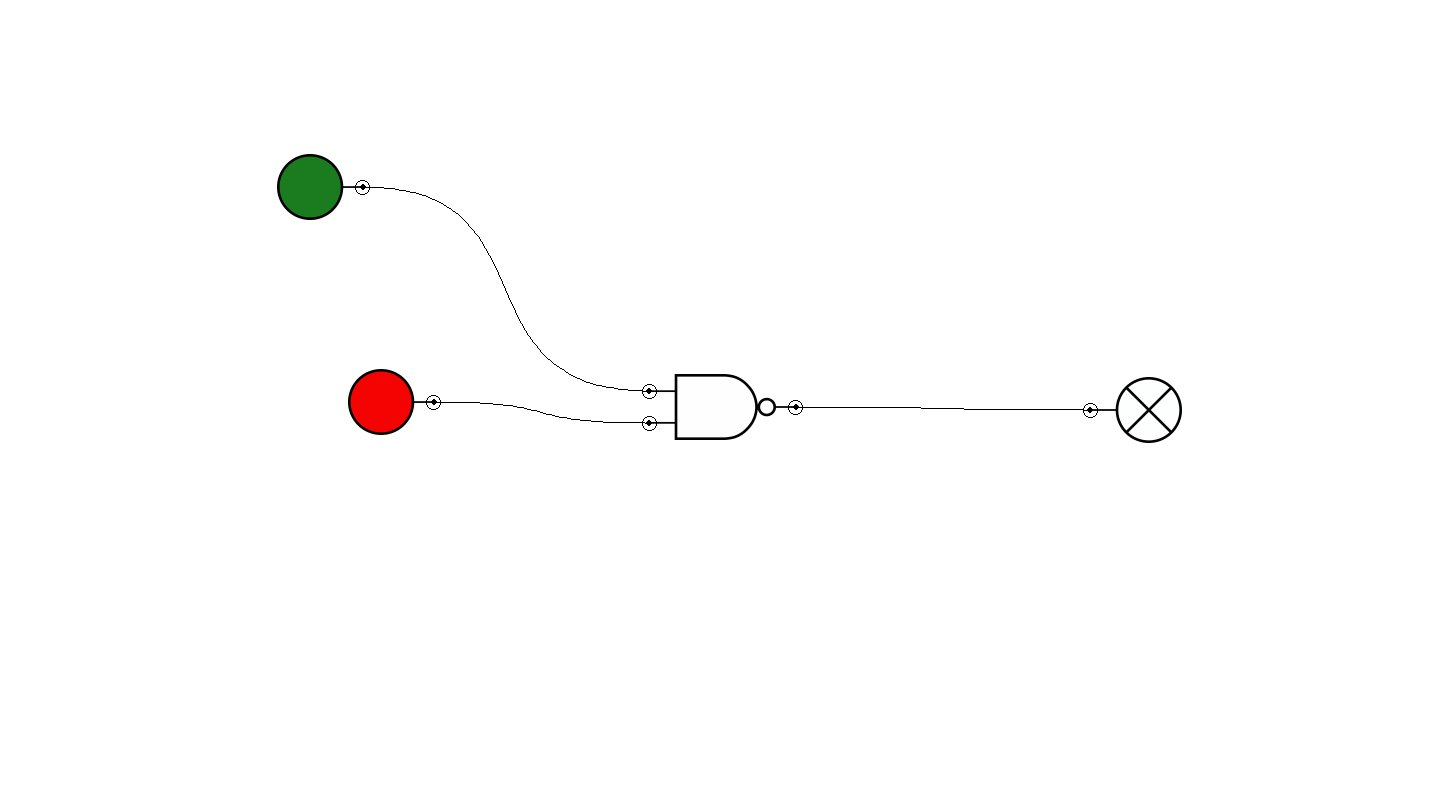bulb: (1083, 377, 1182, 443)
nand: (642, 374, 803, 440)
switch_False: (348, 369, 441, 435)
switch_True: (277, 154, 370, 220)
